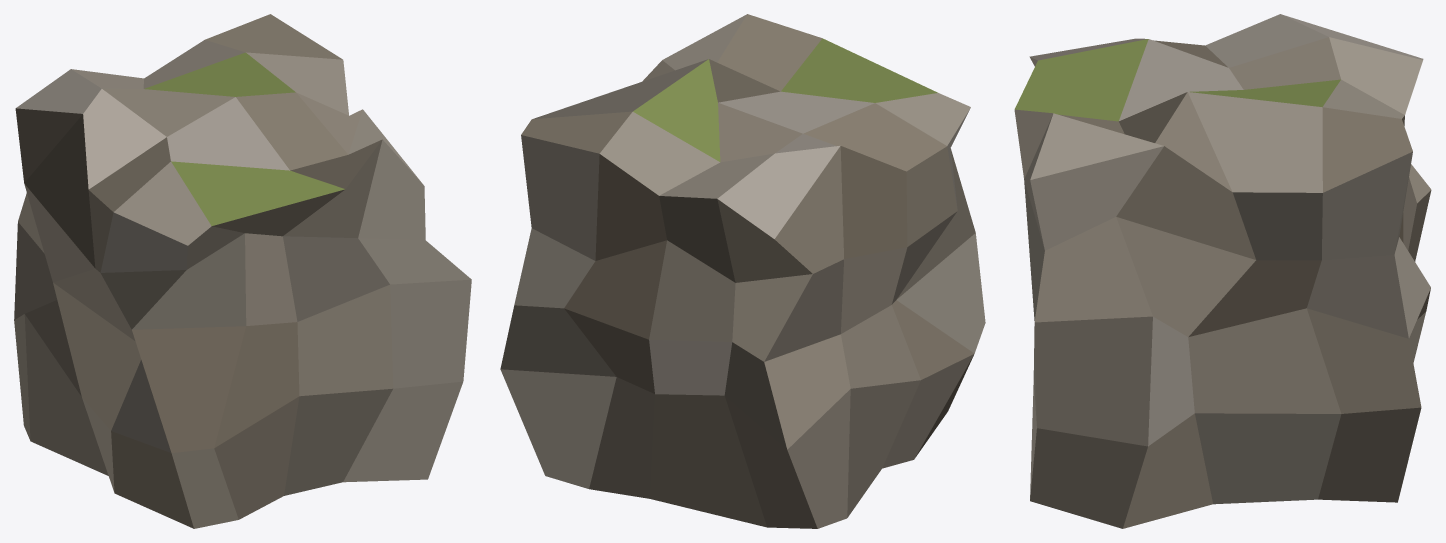
The model's file is Granite_c.fbx.
The picture shows the model from 3 angles, left to right: view 1: azimuth 30°, elevation 25°; view 2: azimuth 150°, elevation 25°; view 3: azimuth 270°, elevation 25°; orthographic projection. The views are drawn at different scales.
Parts seen in each view (by area): view 1: Granite_c; view 2: Granite_c; view 3: Granite_c.
Boxes of the visible parts, x1,y1,x2,y2 form: Granite_c: (14,14,471,528); Granite_c: (500,14,985,528); Granite_c: (1014,14,1431,528).
Size of what is drawn, in the model's own units: 1 by 1 by 1.
